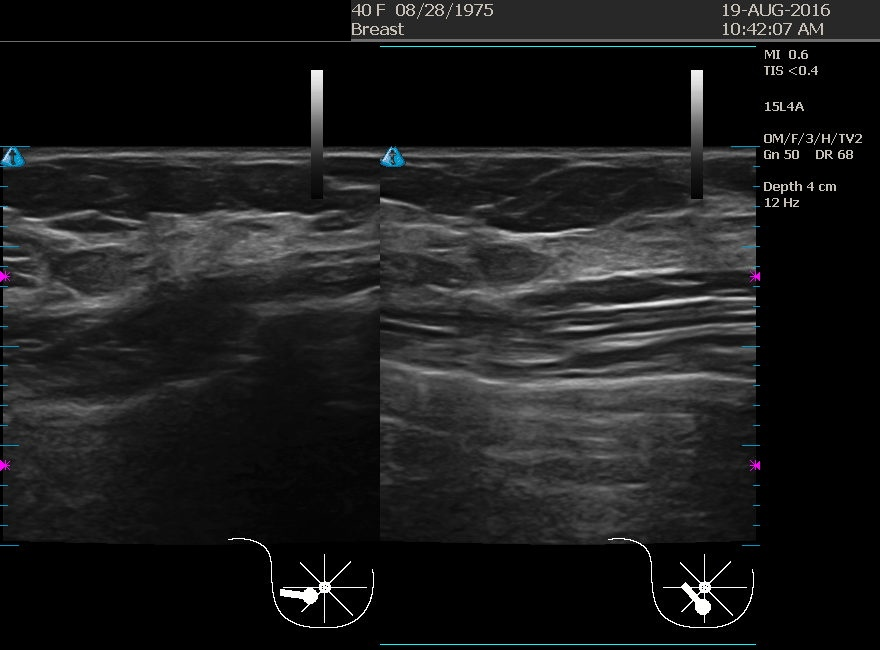BIRADS_2: (42, 240, 242, 440), (383, 171, 583, 371)
